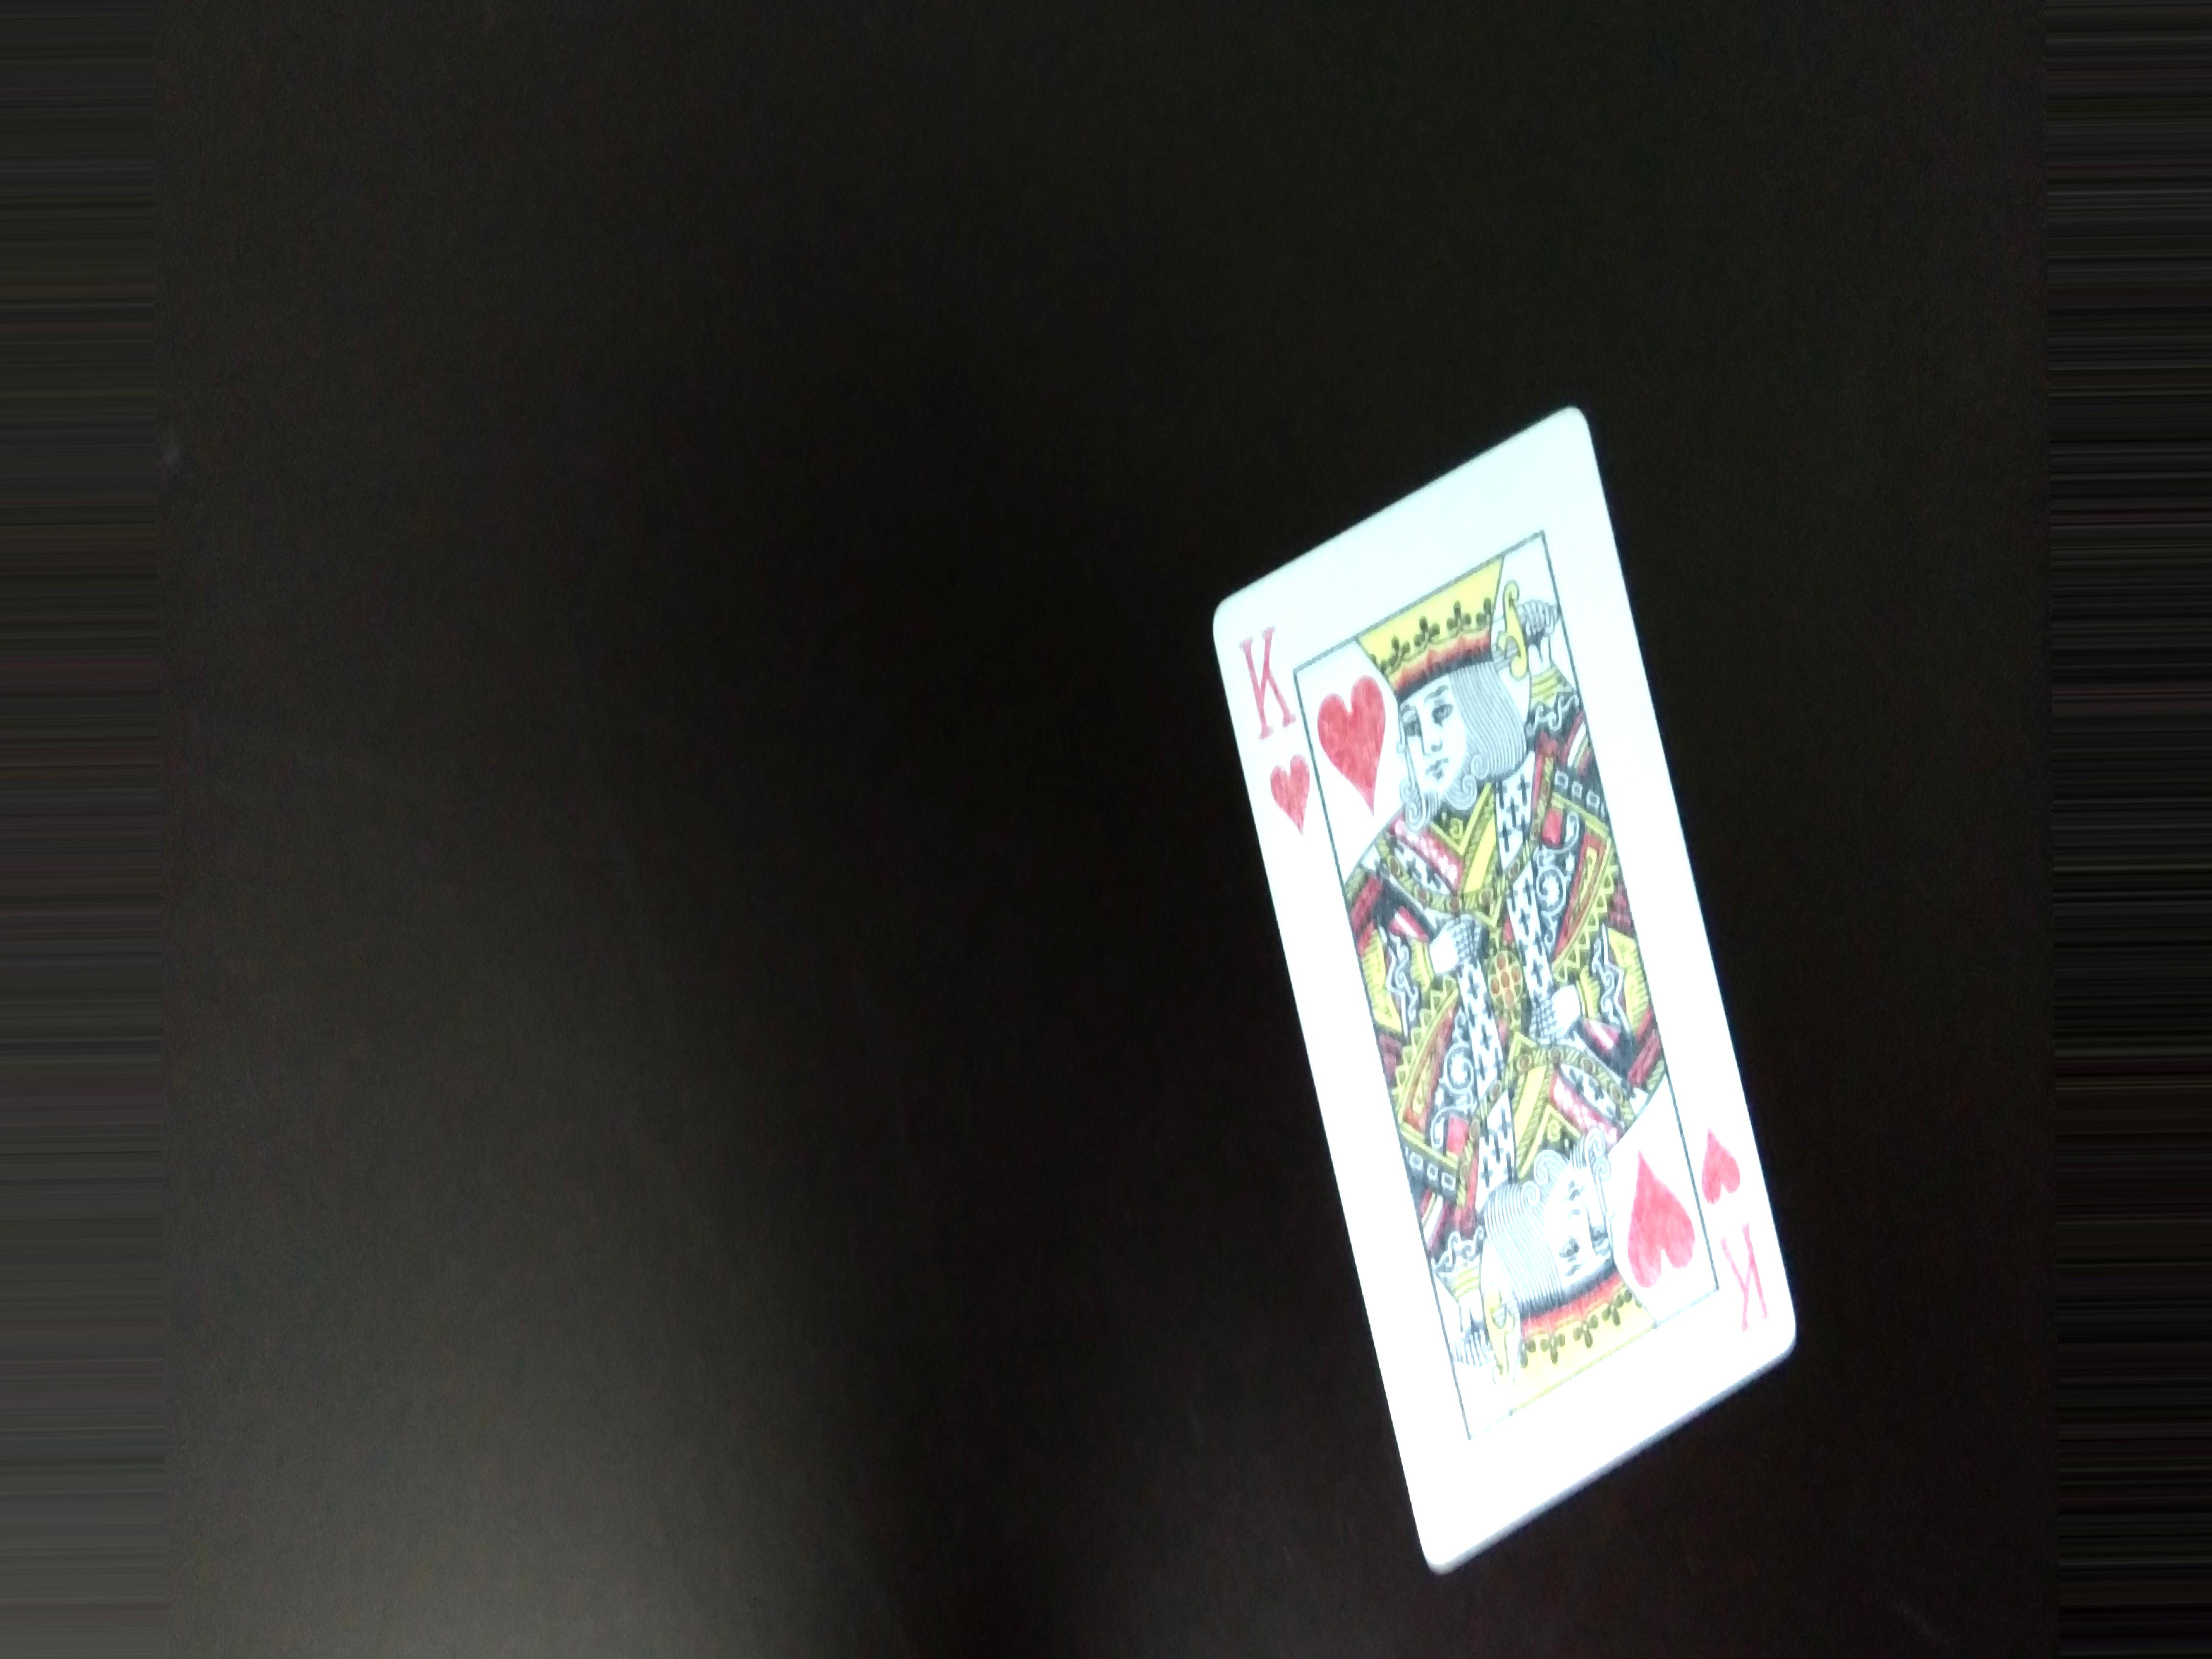KH: (1240, 619, 1324, 835)
